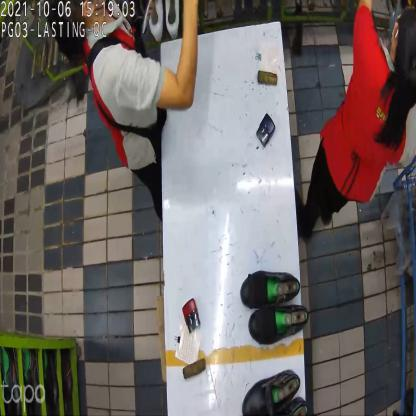shoes: (241, 271, 310, 346), (241, 370, 308, 416)
stamp: (256, 112, 276, 148), (184, 297, 202, 334)
